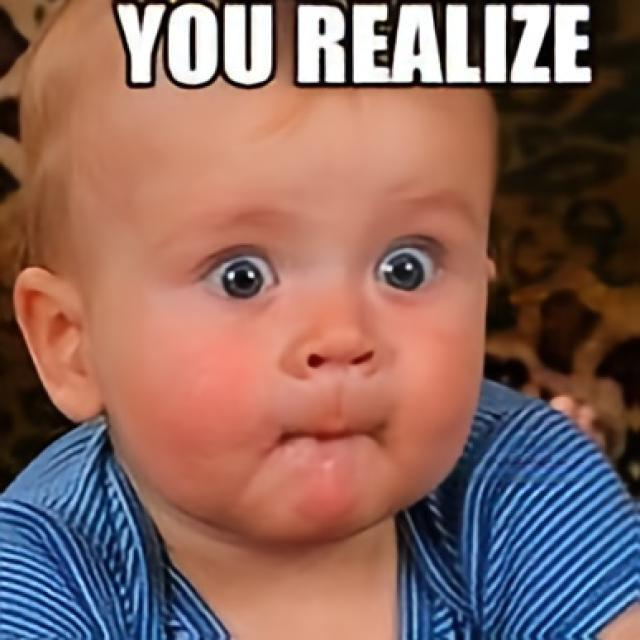fear: (104, 90, 490, 541)
